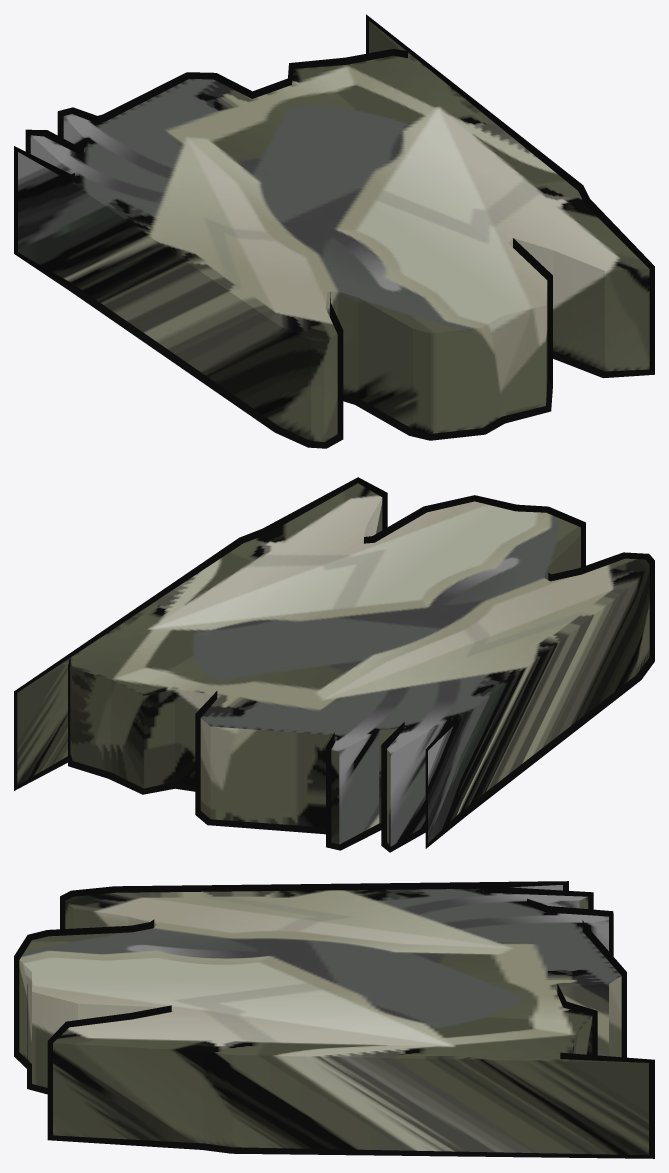
The model's file is Building_MechRelay_Things_Building_MechanoidRelay_Crashed.glb.
3 renders of one model, top to bottom at view 1: azimuth 30°, elevation 25°; view 2: azimuth 150°, elevation 25°; view 3: azimuth 270°, elevation 25°, orthographic. The views are drawn at different scales.
Visible parts, largest first — view 1: Body, Outline; view 2: Body, Outline; view 3: Body, Outline.
Boxes of the visible parts, box(x1,y1,x2,y2) form: Body: box(18, 21, 649, 441); Outline: box(14, 14, 654, 448); Body: box(17, 483, 649, 846); Outline: box(14, 477, 654, 852); Body: box(19, 885, 648, 1155); Outline: box(14, 881, 654, 1158).
Bounding box in the file's own units: 1.41 × 0.3854 × 2.14.
Materials: 2 (1 with a texture image).
